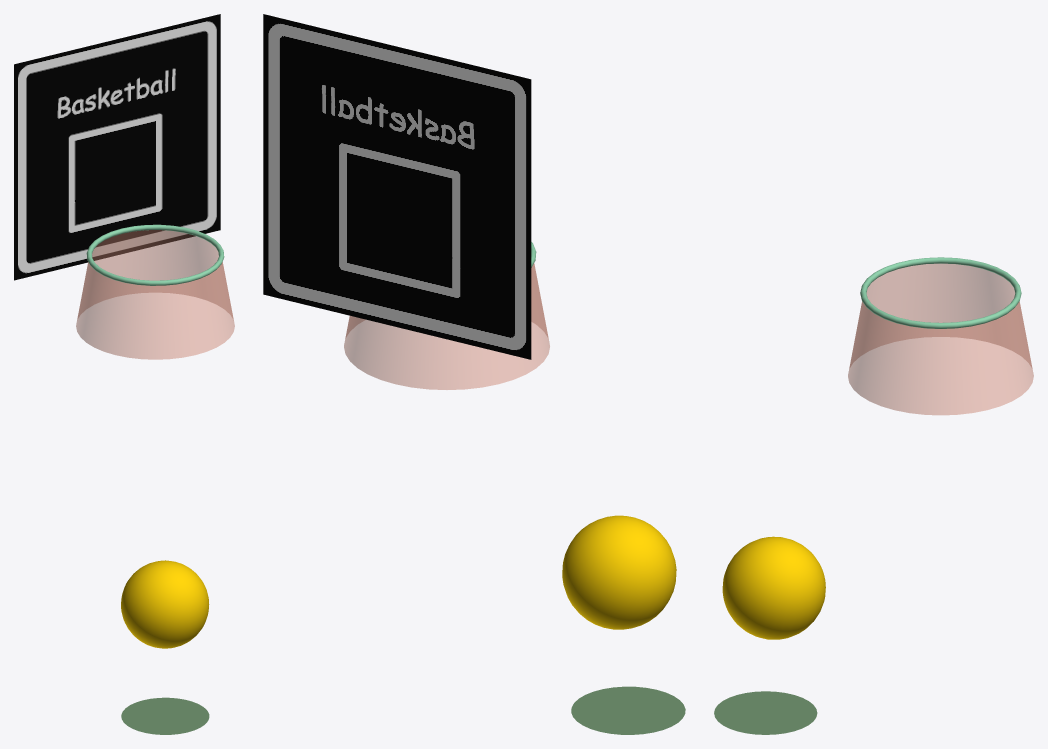
Rendered from basketball.glb.
3 renders of one model, left to right at view 1: azimuth 30°, elevation 25°; view 2: azimuth 150°, elevation 25°; view 3: azimuth 270°, elevation 25°, orthographic. The views are drawn at different scales.
Visible parts, largest first — view 1: Mesh_2, Mesh_3, Mesh_0, Mesh_5, Mesh_1; view 2: Mesh_2, Mesh_0, Mesh_3, Mesh_5; view 3: Mesh_3, Mesh_0, Mesh_5, Mesh_1.
Part boxes in pixels (x1,y1,x2,y2): Mesh_2: (14,14,220,280); Mesh_3: (76,230,234,359); Mesh_0: (121,560,209,648); Mesh_5: (121,697,209,734); Mesh_1: (86,224,224,285); Mesh_2: (263,14,531,359); Mesh_0: (562,515,676,629); Mesh_3: (344,263,549,389); Mesh_5: (571,686,685,734); Mesh_3: (848,263,1033,415); Mesh_0: (722,536,825,639); Mesh_5: (714,691,817,734); Mesh_1: (860,257,1021,328).
Size of what is drawn, in the model's own units: 0.54 by 1.45 by 0.6188.
5 materials, 1 textured.
